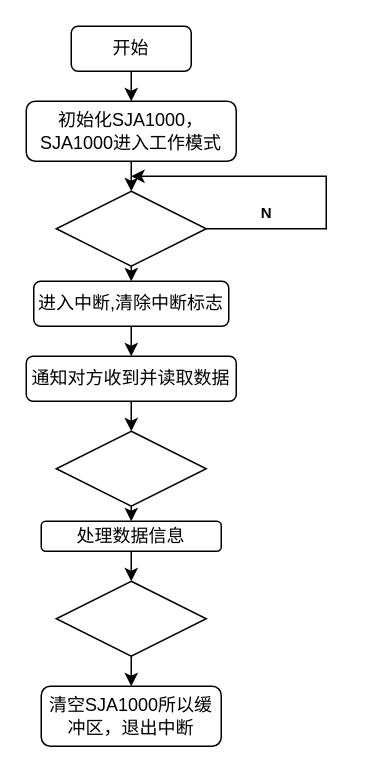
Some shapes in this 368 by 773 pixel diagram are drawn without their labels. The shapes that lost their labels are listed below. From the top down, each one's centre as x and y in pixels, then its label:
the point at 130,228: 等待接收中断
the point at 130,468: 发送完毕
the point at 130,618: 处理是否完成
